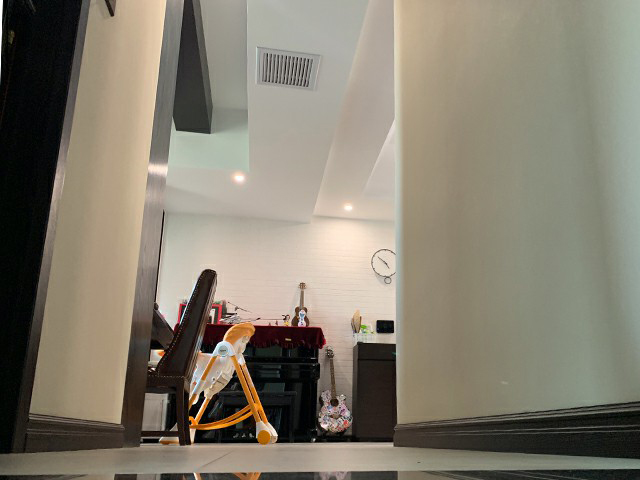cabinet: (352, 341, 397, 442)
stool: (146, 268, 218, 447), (218, 389, 299, 444)
